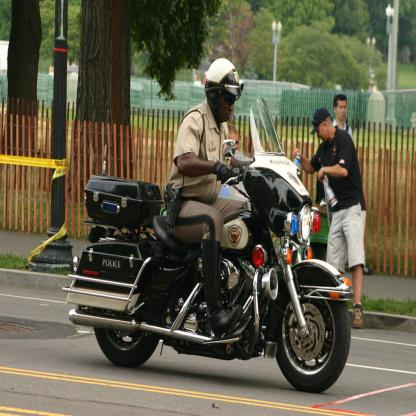Helmet: (204, 58, 241, 118)
